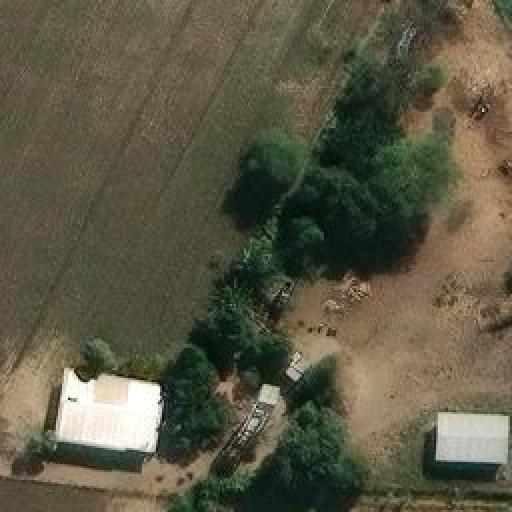manzanas: (209, 340, 324, 487), (49, 360, 172, 469), (424, 408, 510, 471)
